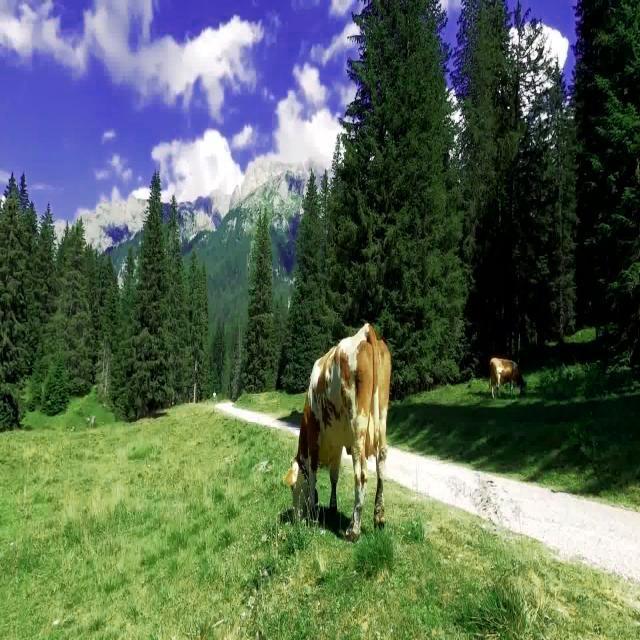cow: (288, 324, 391, 539)
